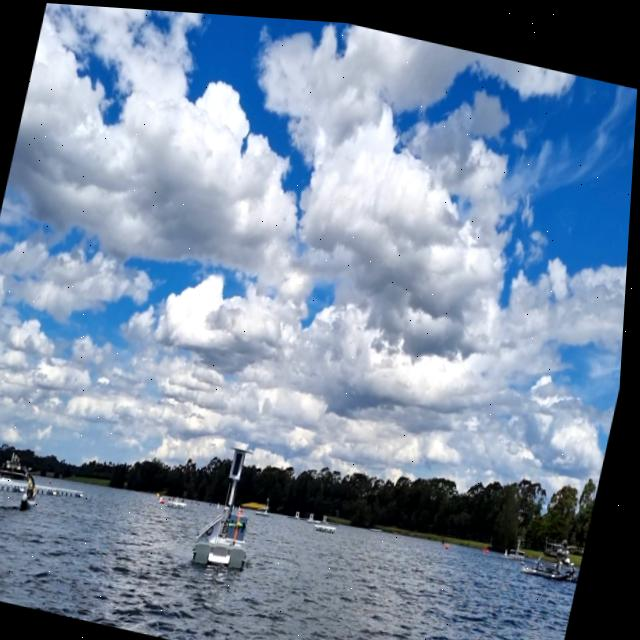led: (237, 447, 250, 475)
